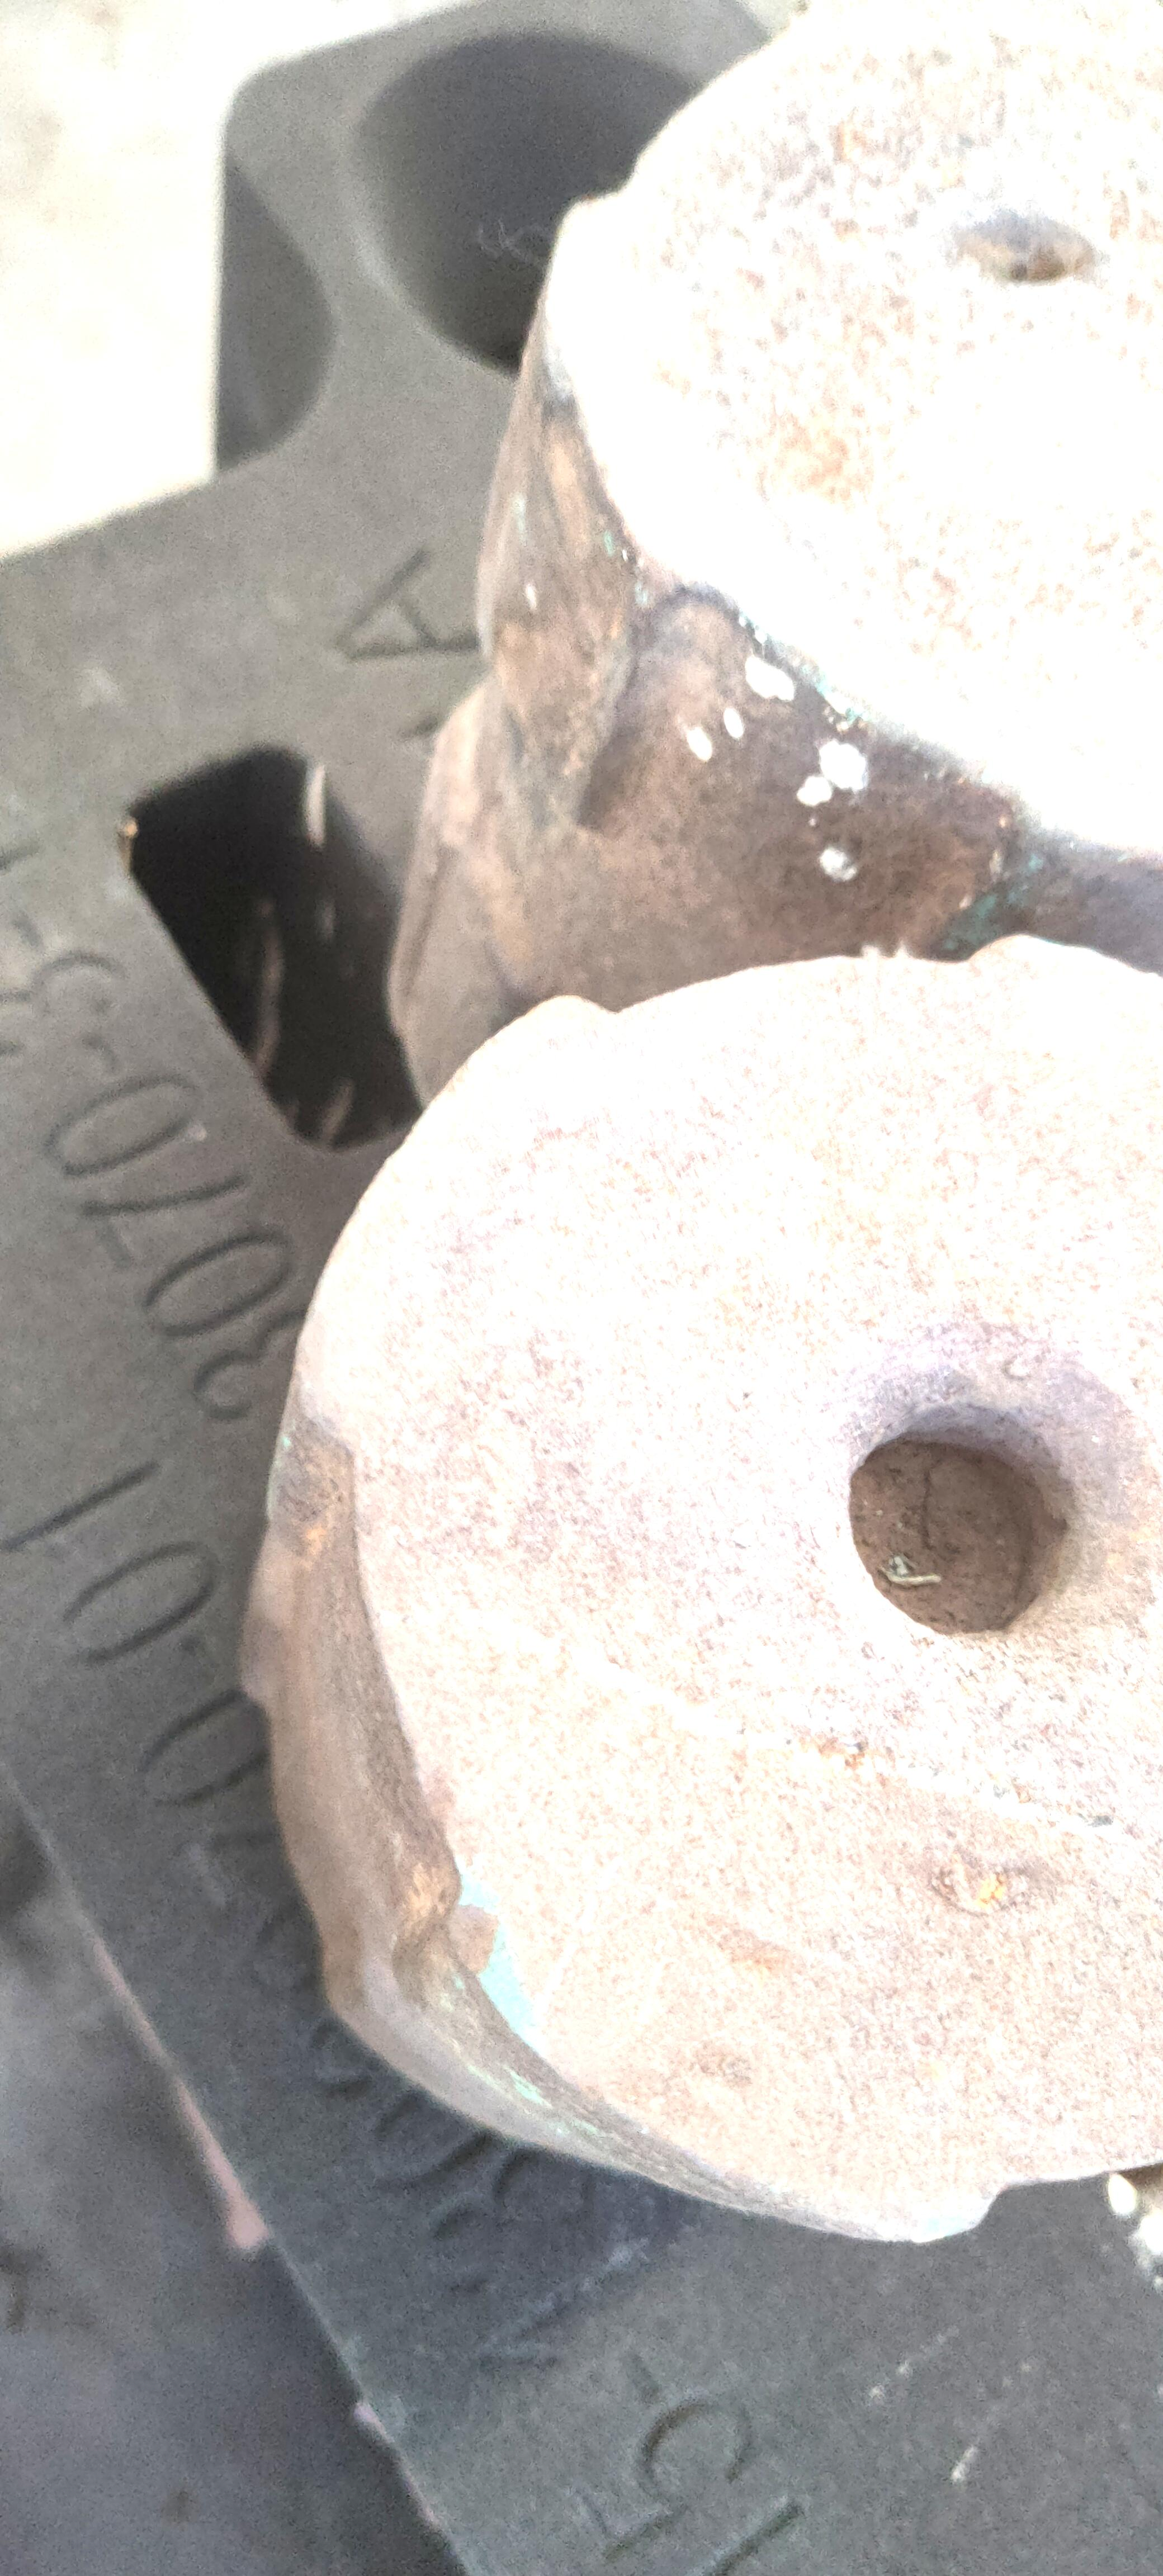pouring hole: (348, 25, 800, 388)
